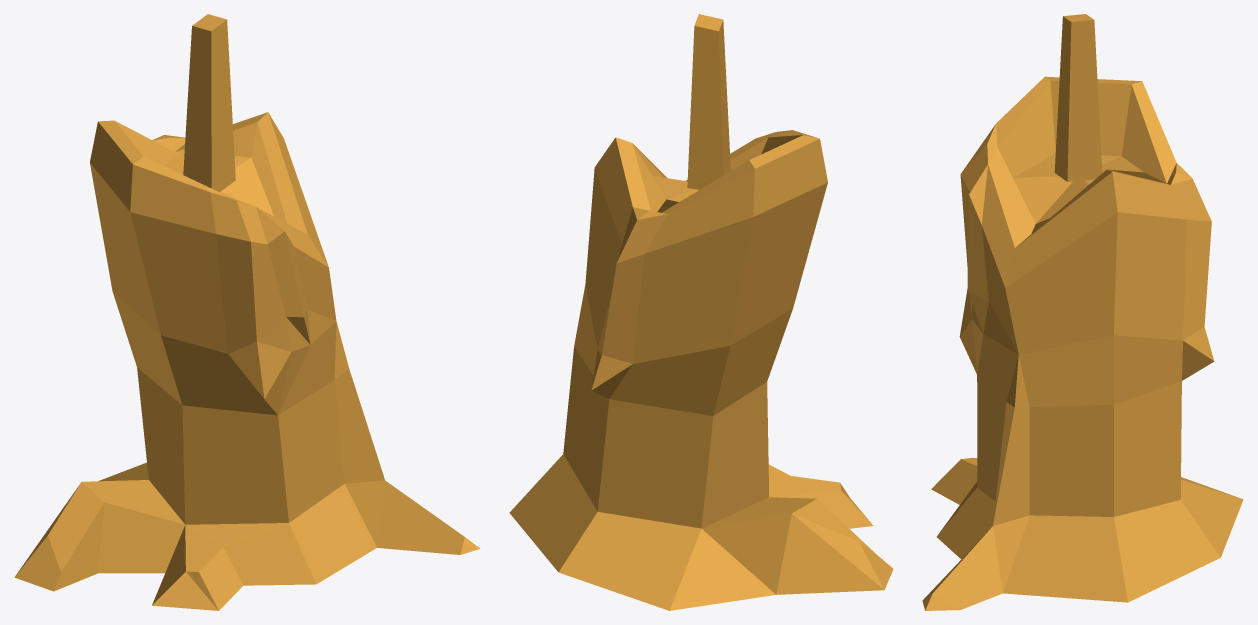
File: candle-stick-c-unlit.fbx
The picture shows the model from 3 angles, left to right: view 1: azimuth 30°, elevation 25°; view 2: azimuth 150°, elevation 25°; view 3: azimuth 270°, elevation 25°; orthographic projection. The views are drawn at different scales.
Parts seen in each view (by area): view 1: candle-stick-c-unlit; view 2: candle-stick-c-unlit; view 3: candle-stick-c-unlit.
Part boxes in pixels (x1=…): candle-stick-c-unlit: x1=14, y1=14, x2=480, y2=610; candle-stick-c-unlit: x1=509, y1=14, x2=893, y2=610; candle-stick-c-unlit: x1=922, y1=14, x2=1243, y2=610.
Size of the model in its own units: 0.0733 by 0.0962 by 0.0554.
